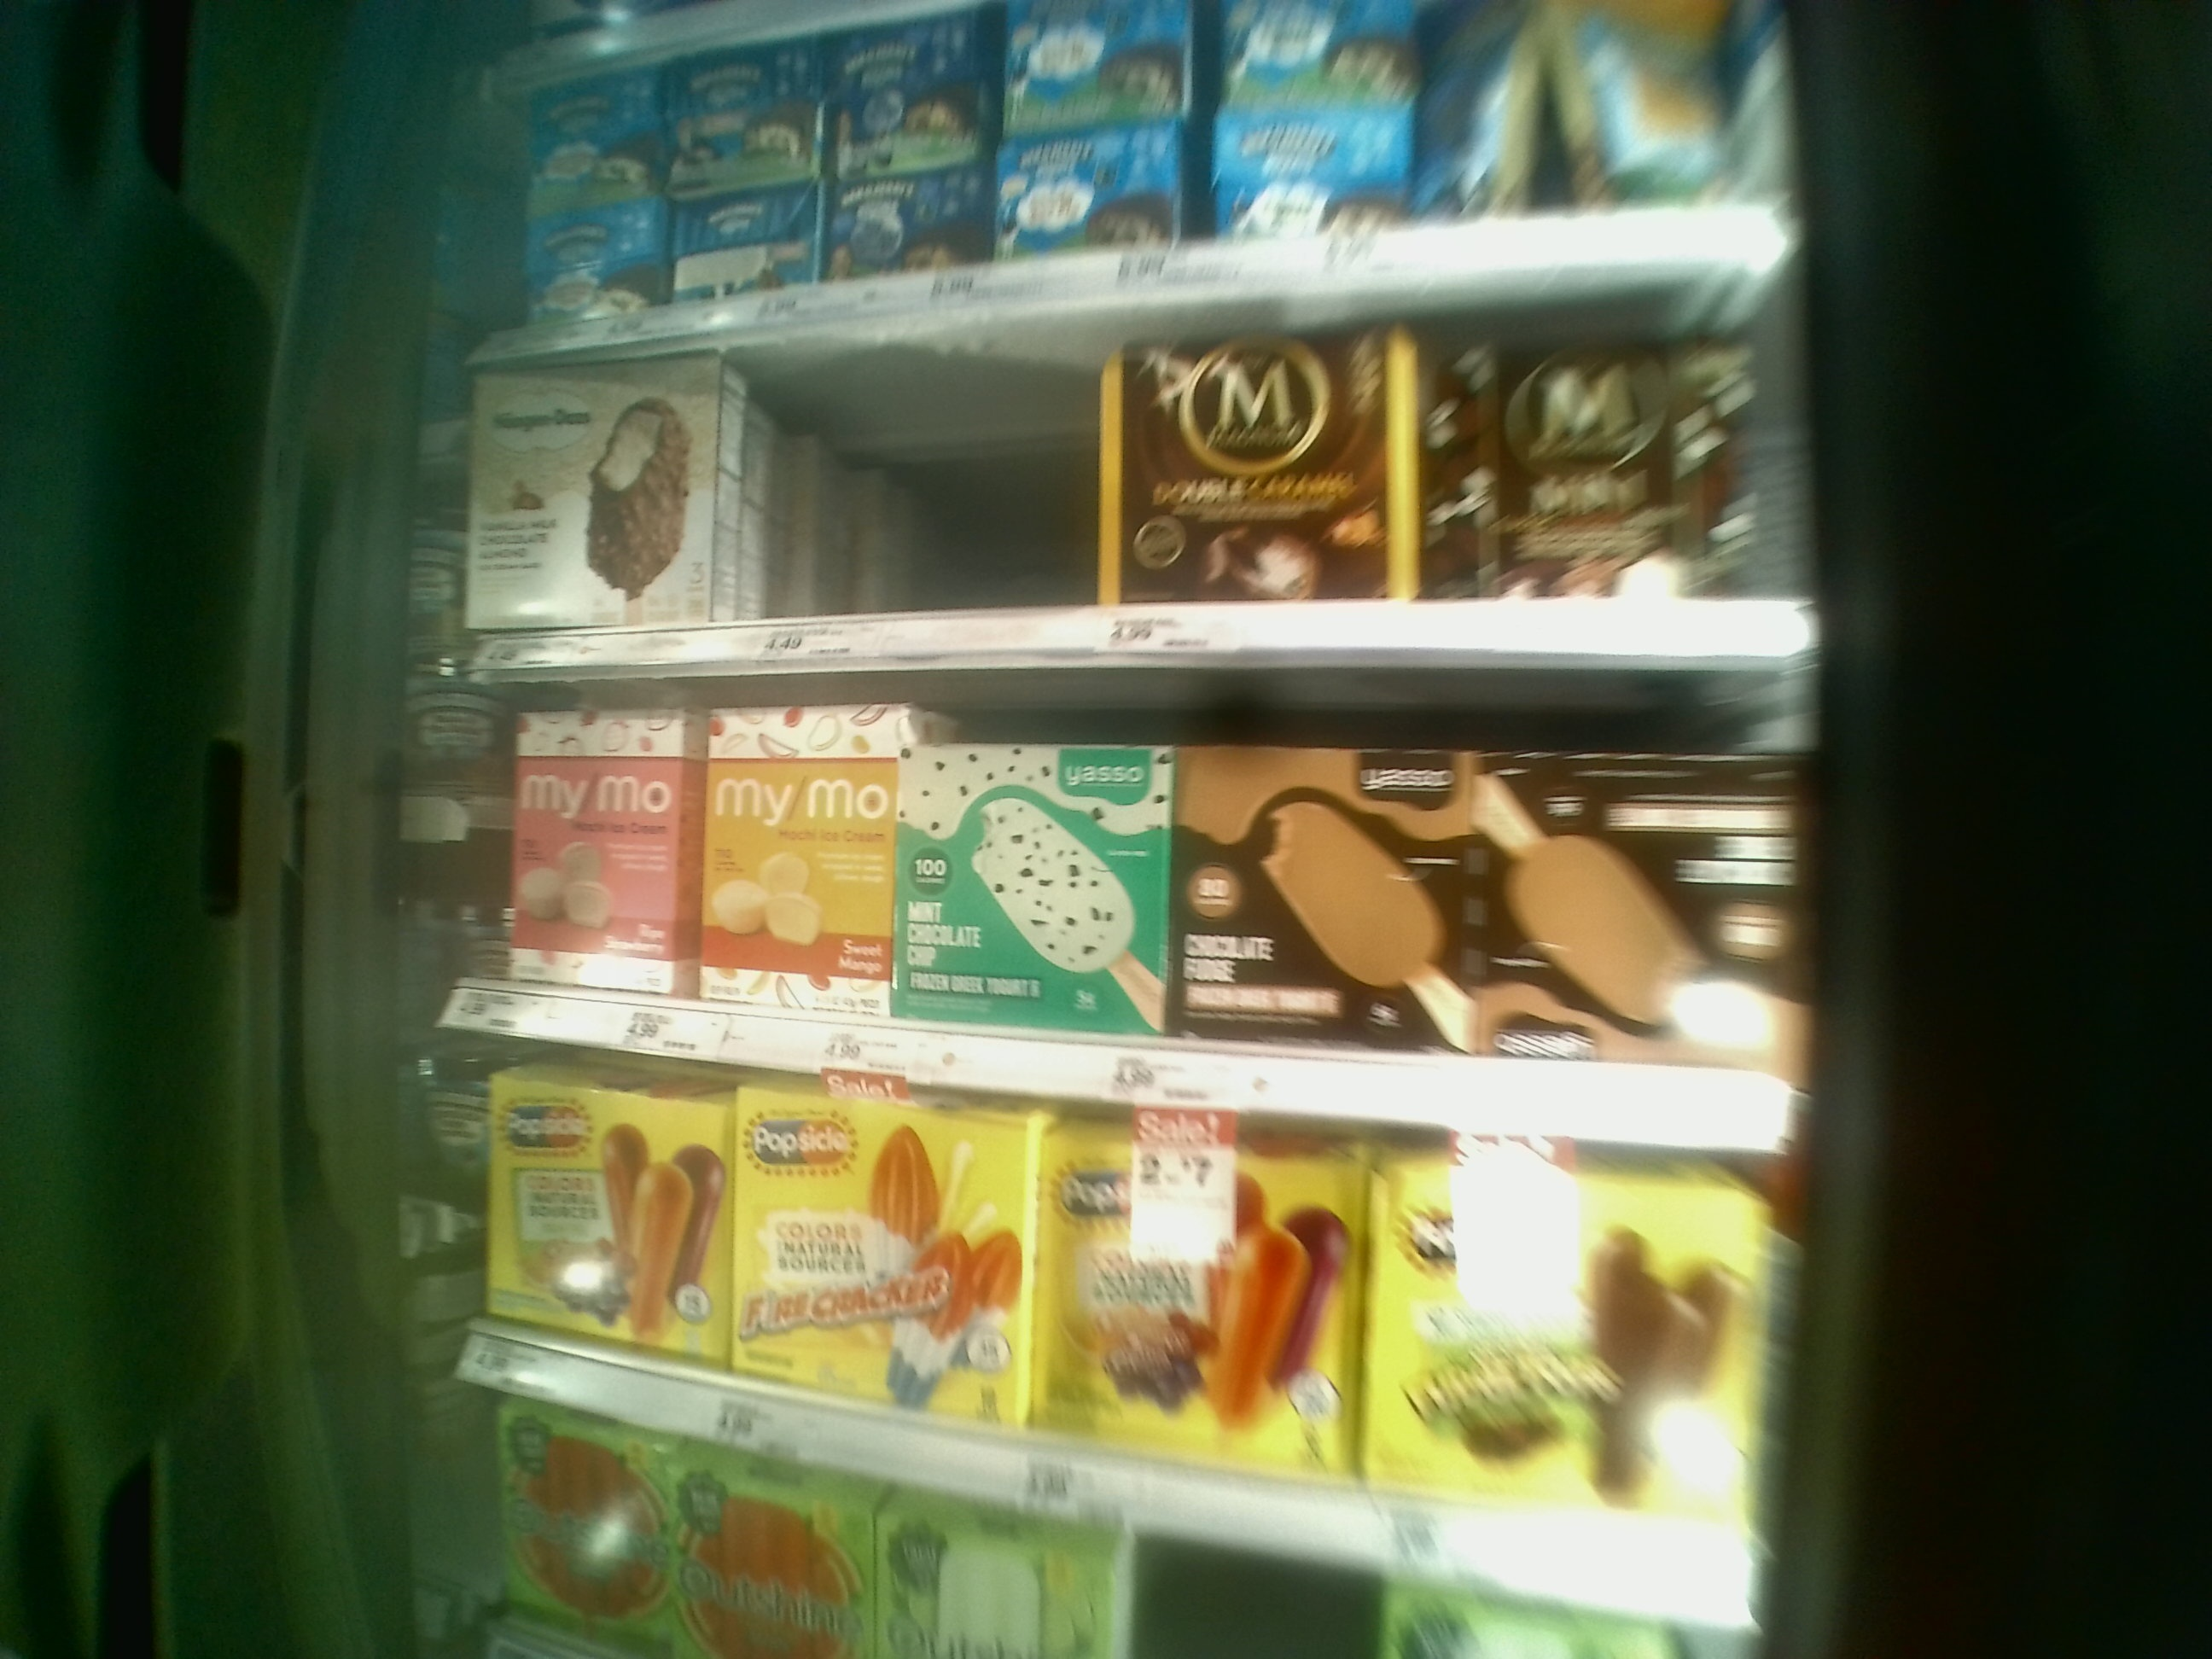ice-cream-shelf: (469, 319, 1846, 659)
